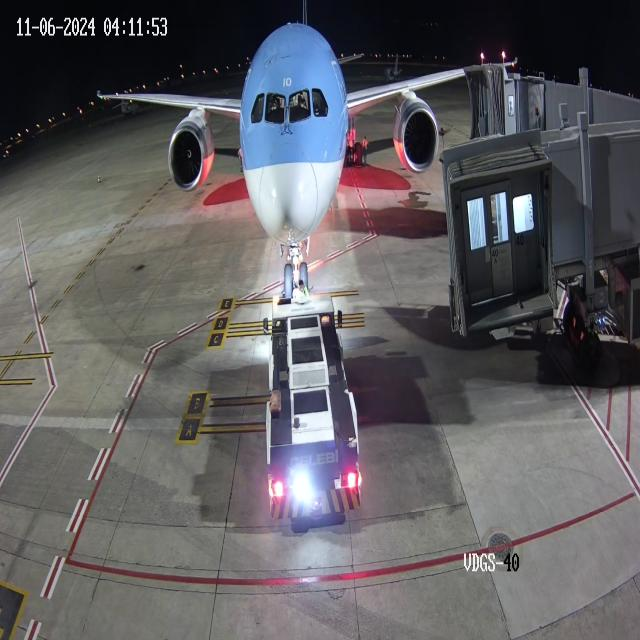bridge: (489, 61, 549, 147)
plane: (92, 5, 436, 302)
window: (248, 82, 335, 134)
